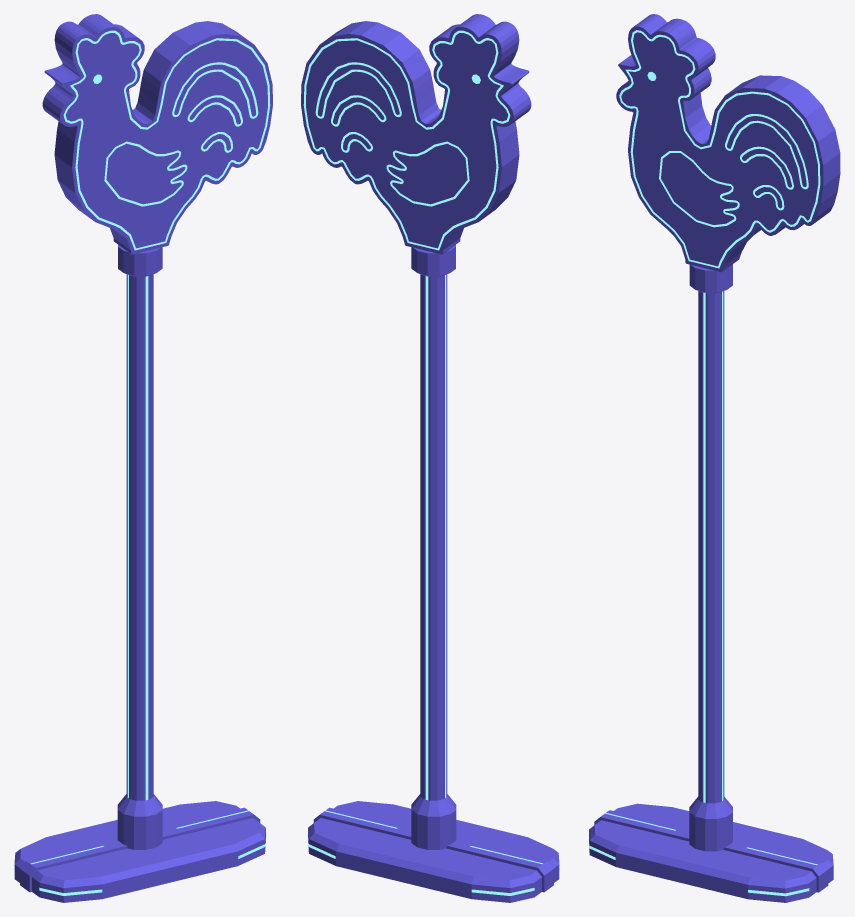
File: SM_Rooster.fbx
3 views of the same model, side by side, from view 1: azimuth 30°, elevation 25°; view 2: azimuth 150°, elevation 25°; view 3: azimuth 330°, elevation 25° (orthographic). The views are drawn at different scales.
Visible parts, largest first — view 1: Mesh_Rooster_Top, Mesh_Rooster_Bottom; view 2: Mesh_Rooster_Top, Mesh_Rooster_Bottom; view 3: Mesh_Rooster_Top, Mesh_Rooster_Bottom.
Boxes of the visible parts, box(x1,y1,x2,y2) form: Mesh_Rooster_Top: box(42, 14, 272, 254); Mesh_Rooster_Bottom: box(14, 245, 266, 902); Mesh_Rooster_Top: box(301, 14, 531, 254); Mesh_Rooster_Bottom: box(307, 245, 559, 902); Mesh_Rooster_Top: box(616, 14, 840, 272); Mesh_Rooster_Bottom: box(588, 264, 833, 902).
Size of the model in its own units: 66.85 by 227 by 29.22.
